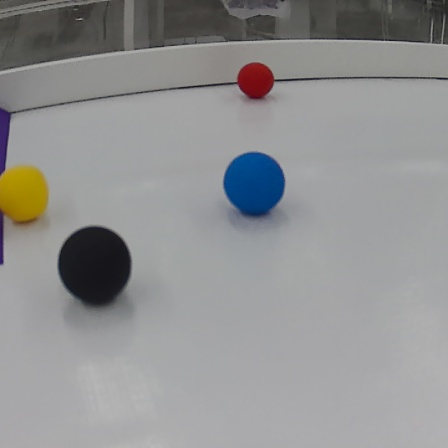black: (51, 224, 135, 309)
blue: (223, 152, 287, 221)
red: (235, 60, 277, 101)
yellow: (3, 164, 55, 226)
